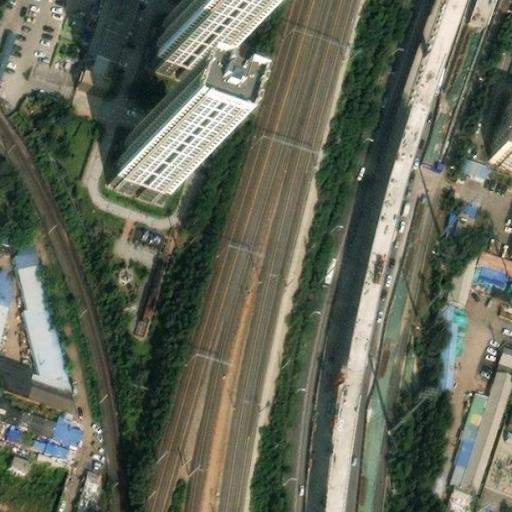building: (14, 242, 71, 379), (450, 361, 512, 483), (80, 0, 138, 82), (154, 7, 222, 69), (115, 128, 183, 190), (131, 257, 170, 335), (432, 296, 460, 381), (443, 239, 479, 301), (25, 368, 79, 402), (7, 422, 73, 449), (471, 244, 512, 280), (72, 467, 102, 512), (489, 108, 512, 164), (443, 476, 478, 512), (0, 265, 13, 339), (455, 154, 489, 181), (19, 402, 57, 425), (2, 449, 32, 476), (0, 28, 14, 81), (52, 411, 78, 438), (500, 339, 512, 357), (504, 93, 512, 110)
